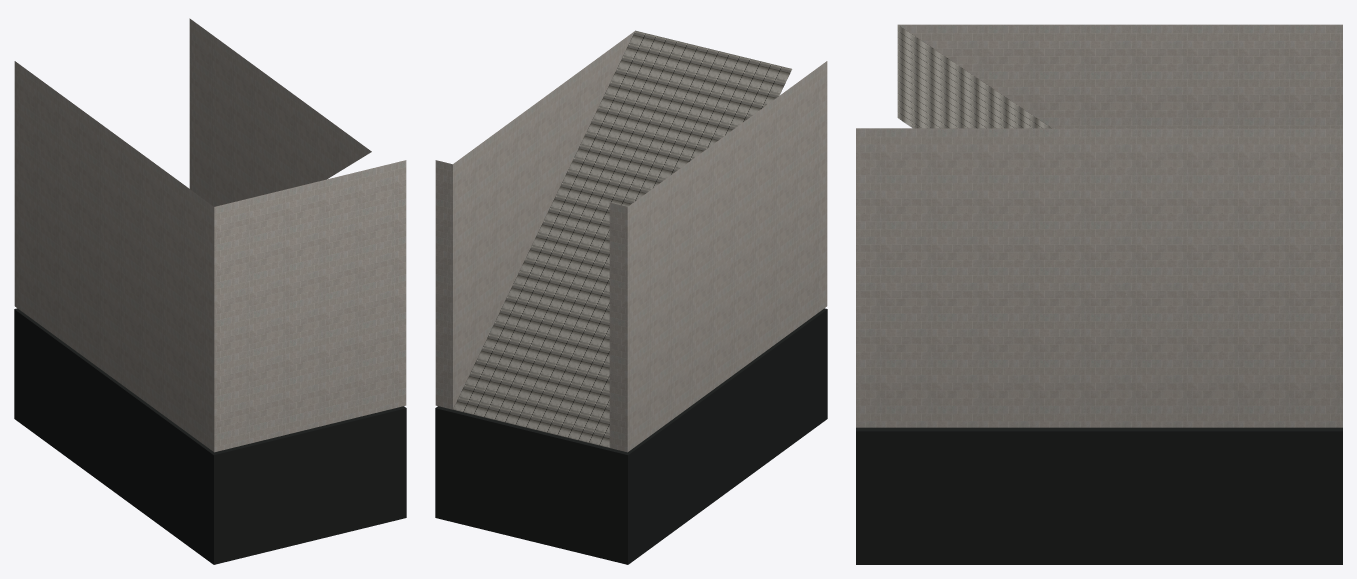
Rendered from AMB_CHIKA_HOME_KAIDAN.glb.
3 renders of one model, left to right at view 1: azimuth 30°, elevation 25°; view 2: azimuth 150°, elevation 25°; view 3: azimuth 270°, elevation 25°, orthographic. The views are drawn at different scales.
Visible parts, largest first — view 1: BASE; view 2: BASE; view 3: BASE.
Boxes of the visible parts, x1,y1,x2,y2 form: BASE: (14,18,406,564); BASE: (435,30,827,564); BASE: (856,24,1342,564).
Size of the model in its own units: 11 by 19.5 by 19.71.
Materials: 4 (3 with a texture image).
